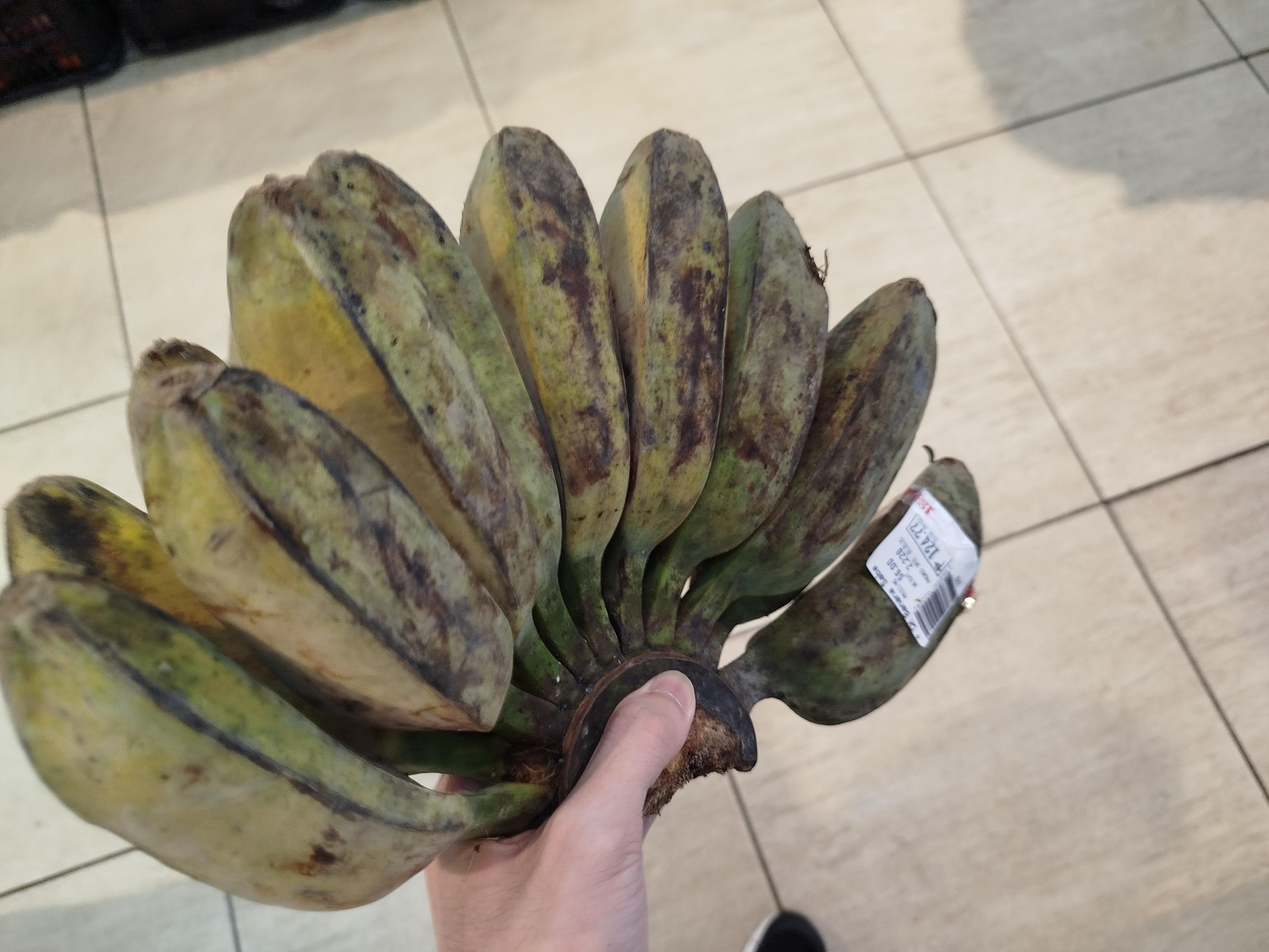underripe: (0, 127, 981, 910)
